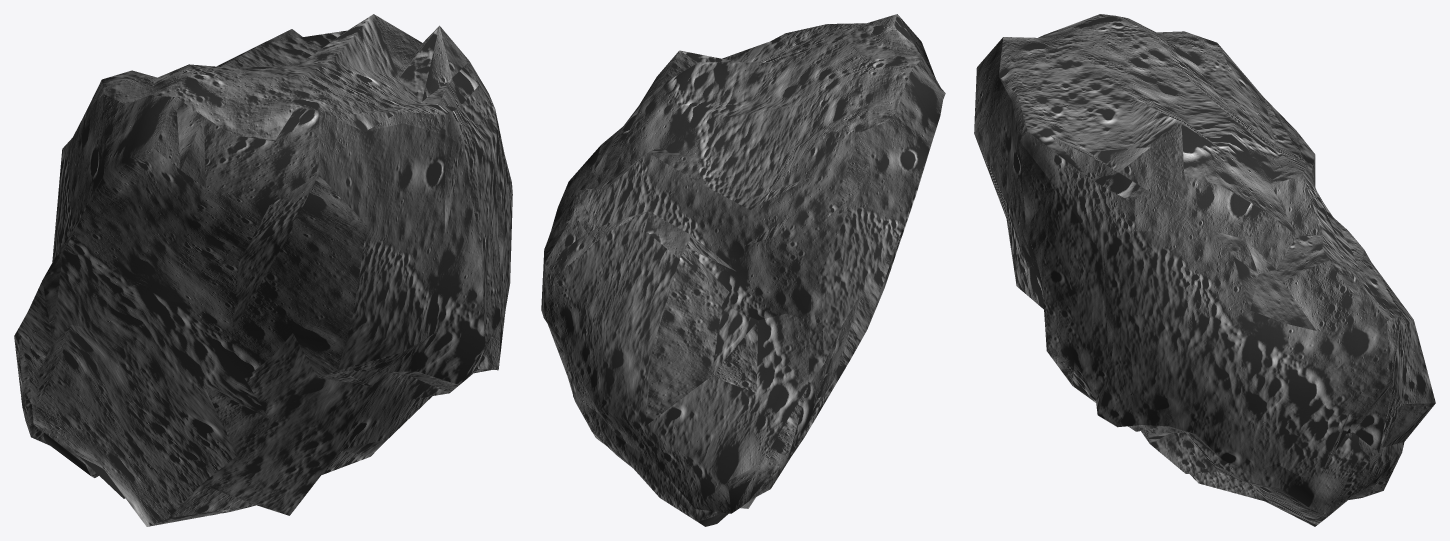
The model's file is meteorito_3.FBX.
The picture shows the model from 3 angles, left to right: view 1: azimuth 30°, elevation 25°; view 2: azimuth 150°, elevation 25°; view 3: azimuth 270°, elevation 25°; orthographic projection. The views are drawn at different scales.
Parts seen in each view (by area): view 1: meteorito_3; view 2: meteorito_3; view 3: meteorito_3.
Boxes of the visible parts, left/top/right/bottom form: meteorito_3: left=14, top=14, right=512, bottom=526; meteorito_3: left=541, top=14, right=945, bottom=526; meteorito_3: left=974, top=14, right=1435, bottom=526.
Bounding box in the file's own units: 44.32 × 53.96 × 50.89.
